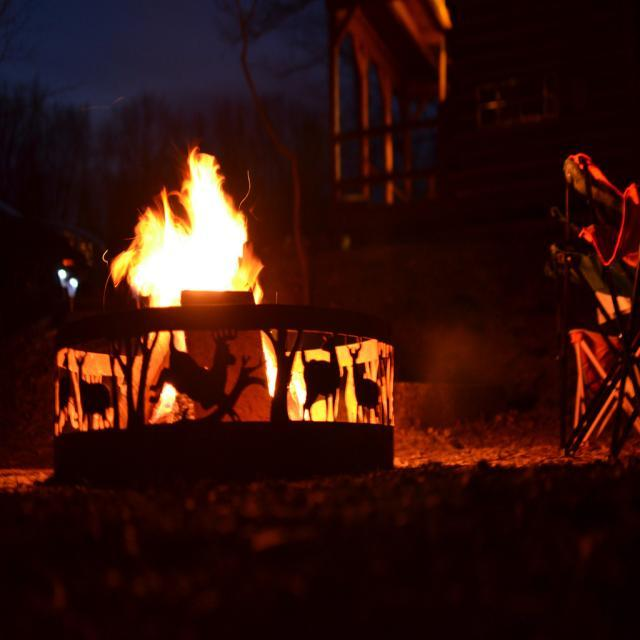Fire: (110, 130, 268, 302)
